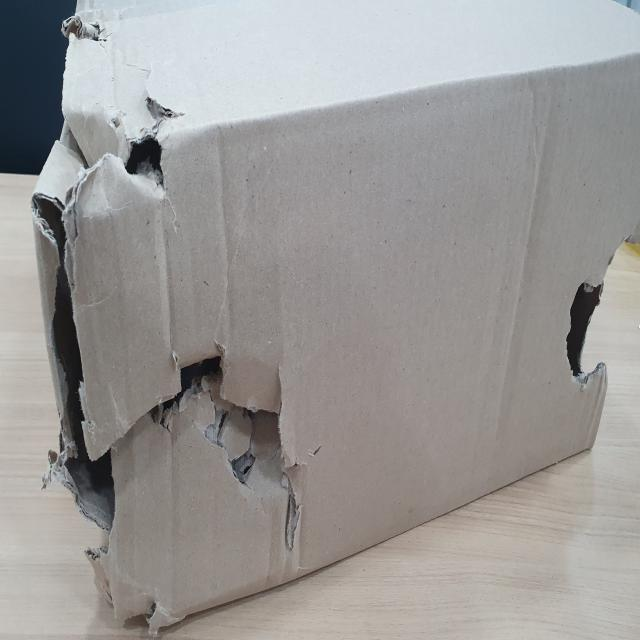hole: (133, 323, 307, 558), (27, 179, 131, 545), (110, 88, 204, 220), (561, 256, 621, 396)
